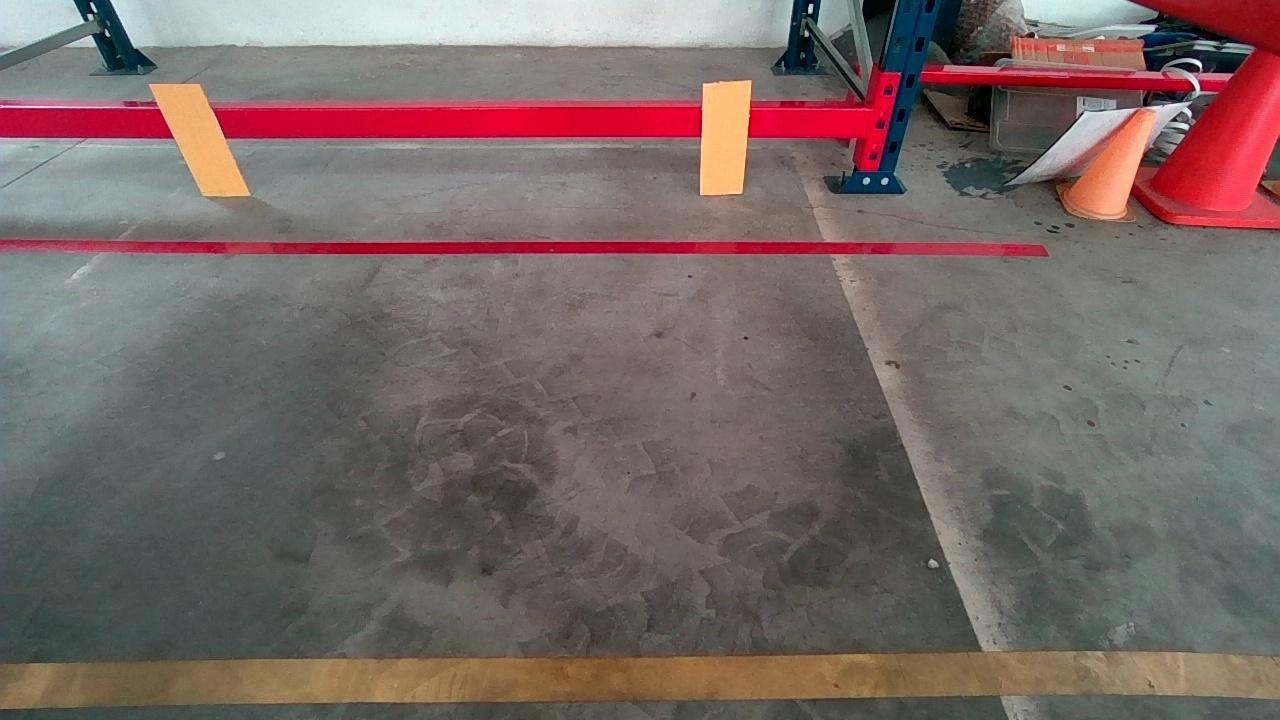h_rack: (0, 100, 879, 144)
orange_strip: (149, 82, 249, 195), (700, 82, 750, 193)
red_line: (0, 240, 1048, 254)
yellow_line: (0, 658, 1280, 710)
